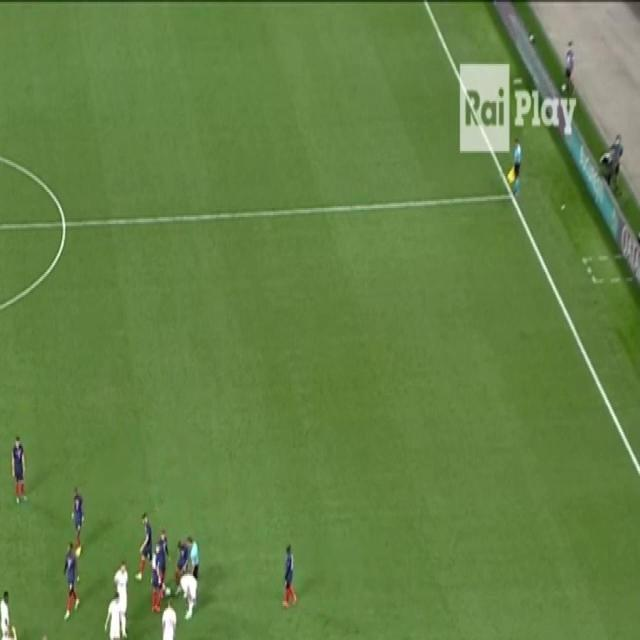ball: (164, 581, 172, 599)
player-white: (61, 539, 80, 625), (133, 509, 154, 583), (112, 556, 130, 640), (279, 540, 298, 614), (10, 433, 28, 509), (177, 571, 200, 627), (69, 483, 85, 562), (150, 538, 164, 618), (156, 524, 172, 590), (173, 535, 189, 597), (156, 595, 178, 640), (103, 590, 122, 640), (512, 133, 524, 205), (186, 532, 202, 585), (0, 586, 12, 640), (0, 622, 19, 640), (33, 631, 52, 640)
